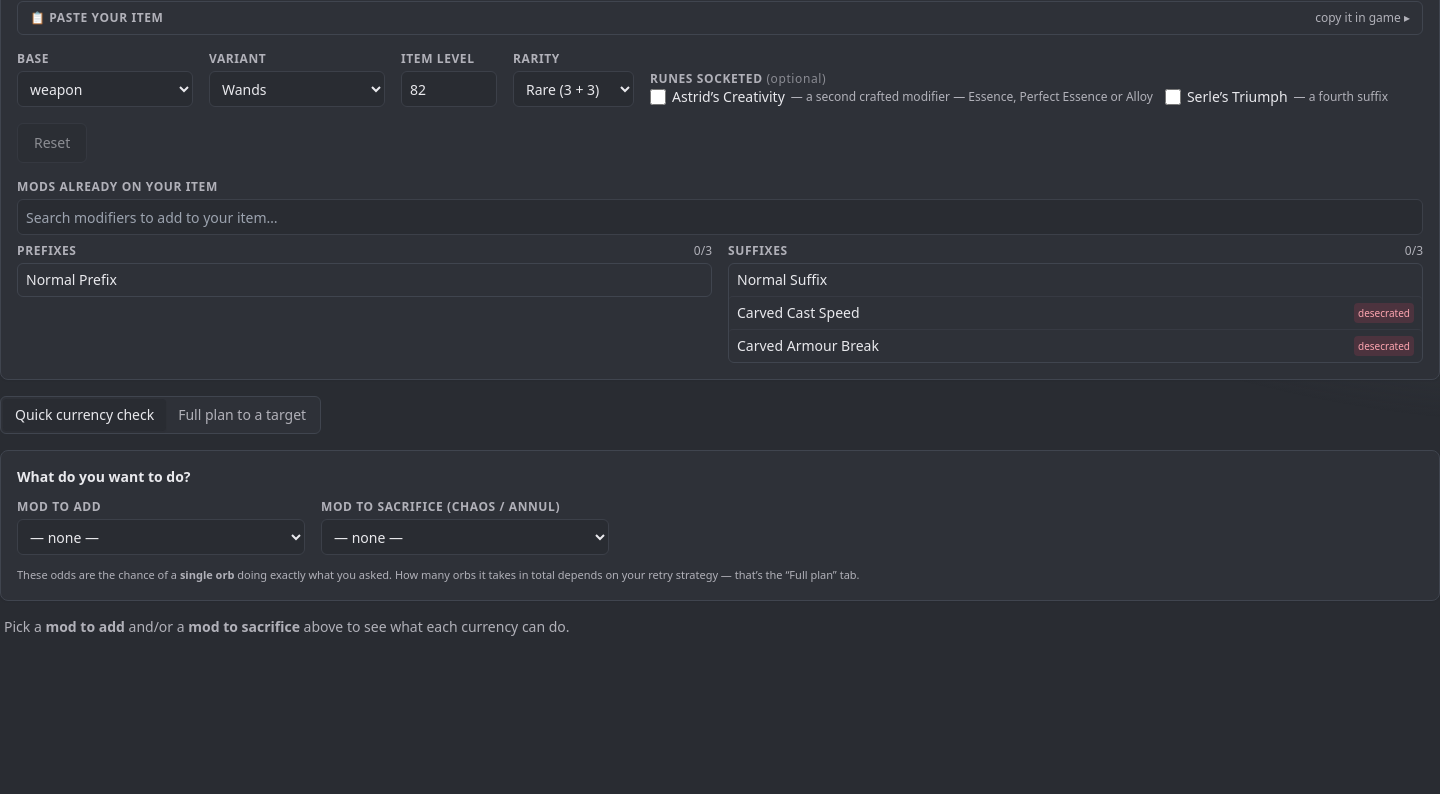
Test: ItemActions — quick check renders every currency action › renders both Annulment cards (plain + Omen of Light) without a key collision
This screenshot has width=1440, height=794.
Expected: the field with placeholder "Search modifiers to add to your item…" is shown, [17,199,1423,235]
Note: Put the desecrated mod on the item, then pick it as the sacrifice → currencyActions fires.
Click the button "Carved Cast Speed desecrated" at coordinates (798, 312), box [729,296,1422,329]
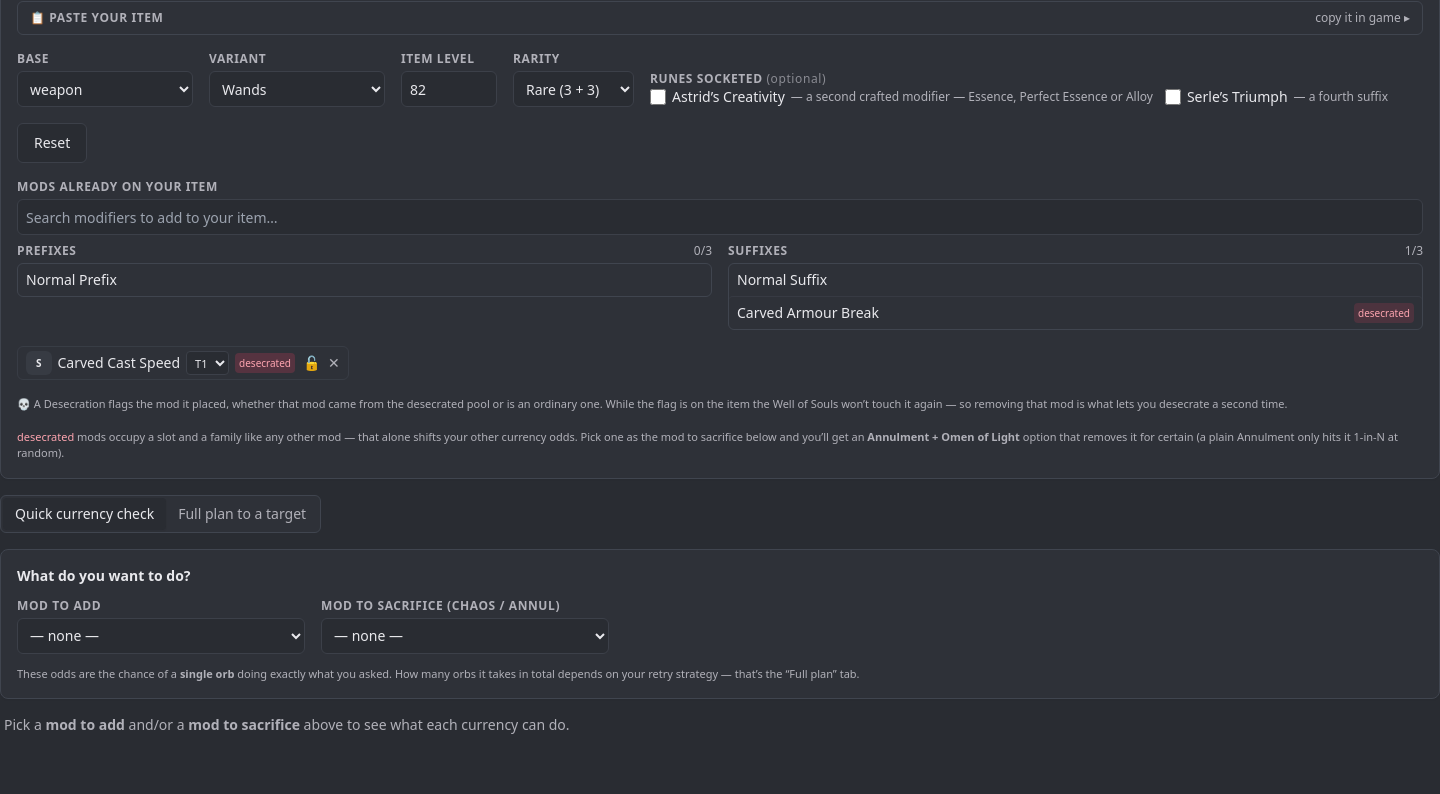
Select "S · Carved Cast Speed" in the dropdown labelled "Mod to sacrifice (Chaos / Annul)" at coordinates (465, 636), box [321,618,609,654]
(page scrolled)
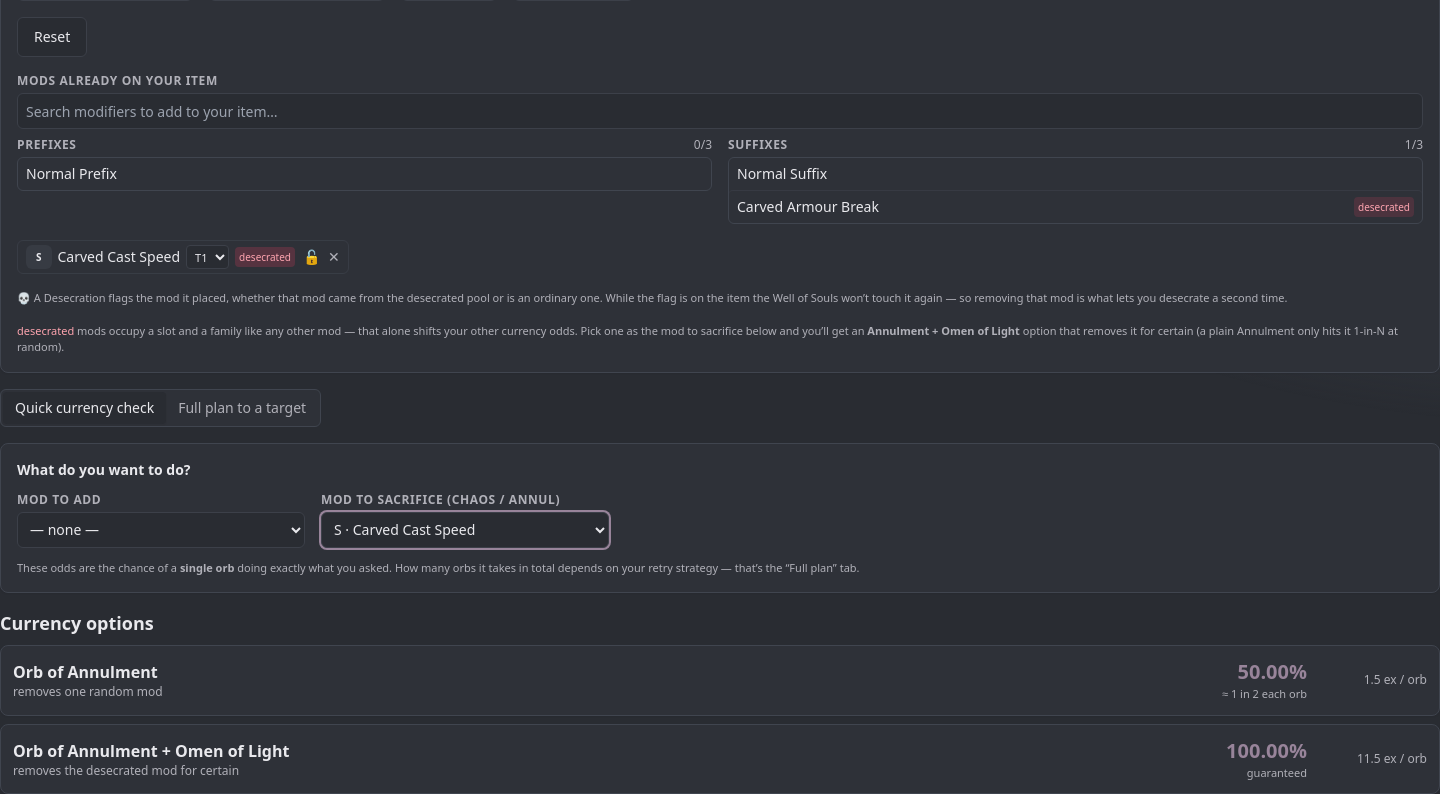
Now the text "Orb of Annulment" is shown, box [13,660,173,684]
Now the text "Orb of Annulment + Omen of Light" is shown, box [13,739,289,763]
Now the text "guaranteed" is shown, box [1247,764,1307,780]
